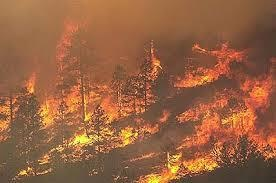fire: (19, 41, 274, 183)
